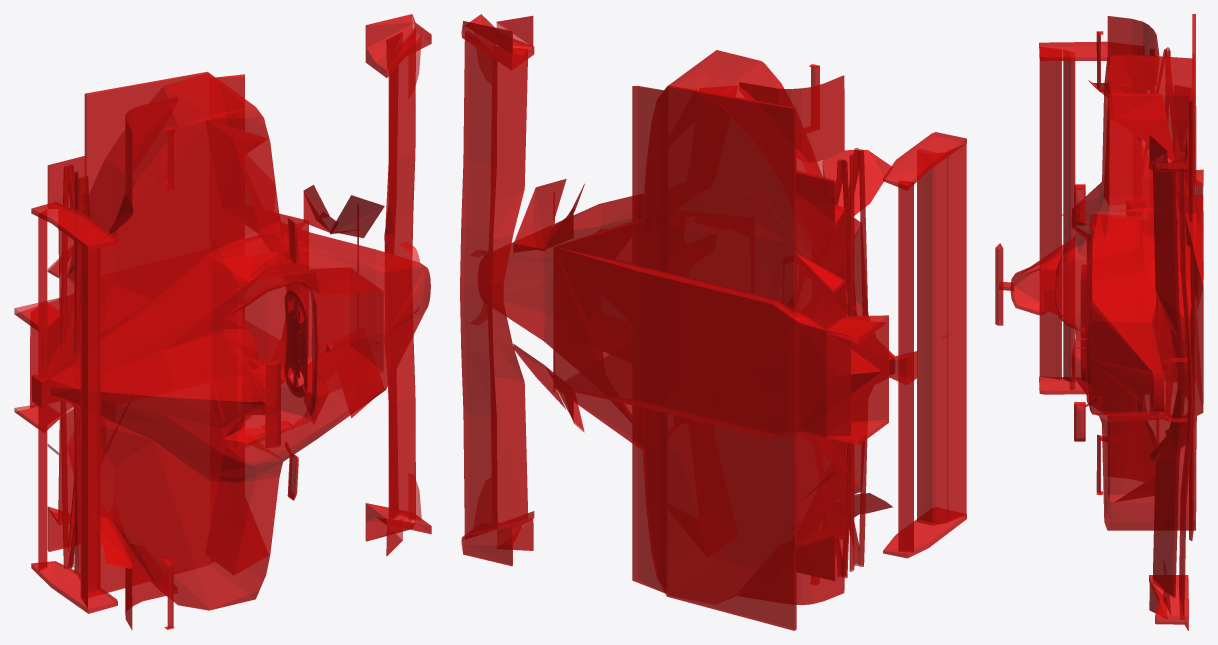
The model's file is CFR22 Try 3_RT_ges_chassis.obj.
The picture shows the model from 3 angles, left to right: view 1: azimuth 30°, elevation 25°; view 2: azimuth 150°, elevation 25°; view 3: azimuth 270°, elevation 25°; orthographic projection. The views are drawn at different scales.
Visible parts, largest first — view 1: Mesh28, Mesh49, Mesh75, Mesh85, Mesh40, Mesh92, Mesh72, Mesh47, Mesh73, Mesh84, Mesh16, Mesh88 (+19 smaller); view 2: Mesh28, Mesh75, Mesh53, Mesh72, Mesh85, Mesh84, Mesh4, Mesh23, Mesh42, Mesh92, Mesh88, Mesh86 (+15 smaller); view 3: Mesh28, Mesh72, Mesh49, Mesh84, Mesh81, Mesh85, Mesh75, Mesh88, Mesh53, Mesh87, Mesh86, Mesh90 (+10 smaller).
Boxes of the visible parts, left/top/right/bottom form: Mesh28: left=30, top=71, right=430, bottom=610; Mesh49: left=212, top=267, right=383, bottom=396; Mesh75: left=385, top=28, right=415, bottom=517; Mesh85: left=80, top=246, right=100, bottom=597; Mesh40: left=212, top=239, right=236, bottom=448; Mesh92: left=38, top=209, right=47, bottom=570; Mesh72: left=384, top=63, right=398, bottom=522; Mesh47: left=32, top=307, right=115, bottom=423; Mesh73: left=365, top=14, right=431, bottom=77; Mesh84: left=81, top=246, right=87, bottom=608; Mesh16: left=212, top=376, right=319, bottom=450; Mesh88: left=125, top=97, right=177, bottom=203; Mesh28: left=503, top=50, right=894, bottom=630; Mesh75: left=460, top=31, right=497, bottom=539; Mesh53: left=632, top=85, right=667, bottom=593; Mesh72: left=492, top=46, right=527, bottom=526; Mesh85: left=917, top=157, right=947, bottom=525; Mesh84: left=948, top=144, right=966, bottom=522; Mesh4: left=795, top=425, right=846, bottom=581; Mesh23: left=795, top=170, right=846, bottom=318; Mesh42: left=794, top=315, right=888, bottom=445; Mesh92: left=898, top=181, right=913, bottom=551; Mesh88: left=739, top=75, right=844, bottom=162; Mesh86: left=883, top=132, right=966, bottom=190; Mesh28: left=1010, top=14, right=1203, bottom=530; Mesh72: left=1152, top=166, right=1184, bottom=597; Mesh49: left=1092, top=275, right=1184, bottom=395; Mesh84: left=1039, top=47, right=1061, bottom=379; Mesh81: left=1091, top=214, right=1154, bottom=281; Mesh85: left=1063, top=60, right=1075, bottom=389; Mesh75: left=1179, top=168, right=1192, bottom=619; Mesh88: left=1107, top=16, right=1159, bottom=89; Mesh53: left=1189, top=84, right=1193, bottom=540; Mesh87: left=1149, top=575, right=1188, bottom=630; Mesh86: left=1039, top=41, right=1107, bottom=60; Mesh90: left=1080, top=264, right=1090, bottom=381.
Size of the model in its own units: 1789 by 2167 by 860.
